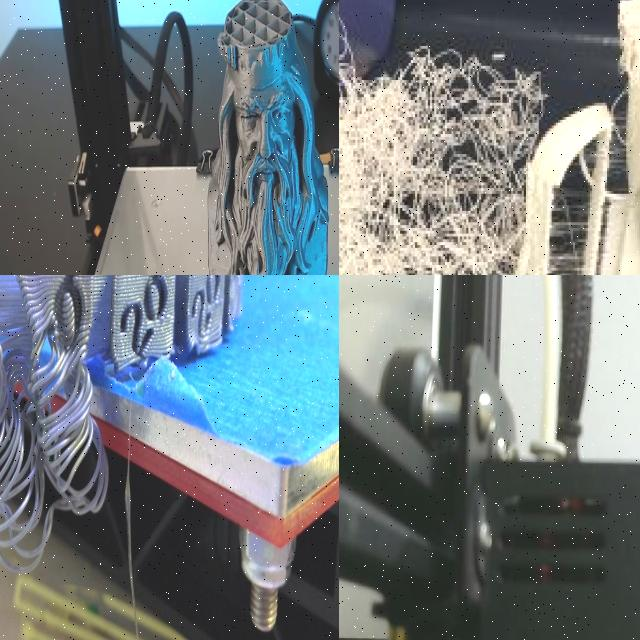spaghetti: (339, 0, 500, 275), (510, 0, 640, 275), (0, 275, 121, 558)
